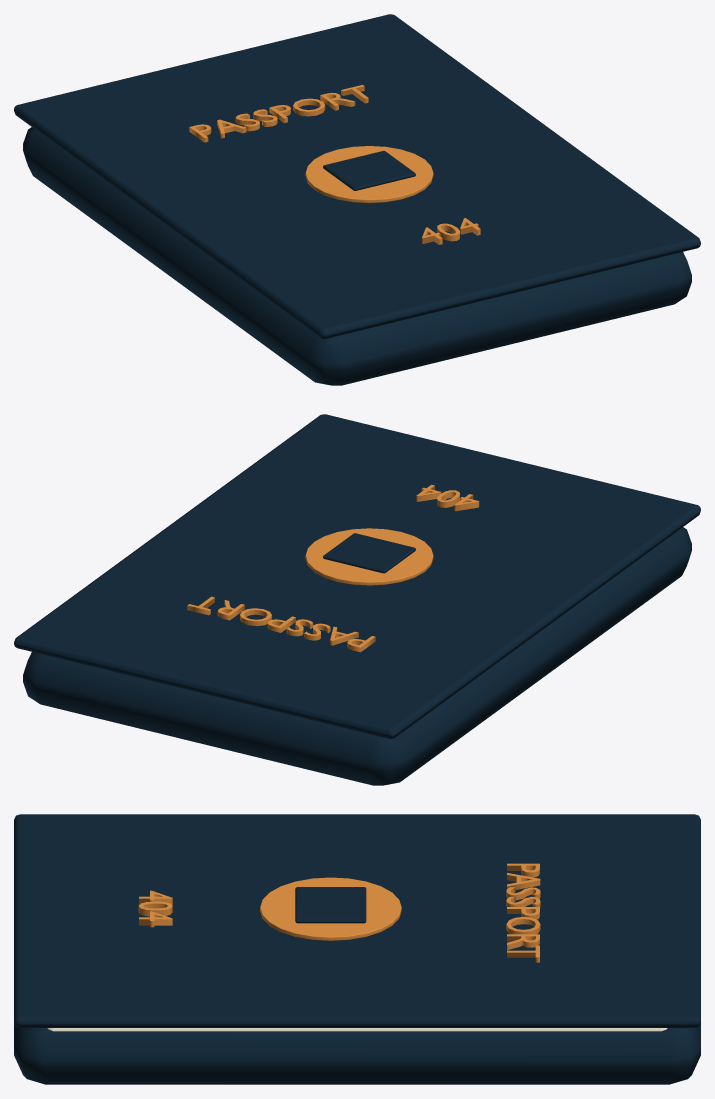
Rendered from passport.glb.
3 renders of one model, top to bottom at view 1: azimuth 30°, elevation 25°; view 2: azimuth 150°, elevation 25°; view 3: azimuth 270°, elevation 25°, orthographic. The views are drawn at different scales.
Parts seen in each view (by area): view 1: passport; view 2: passport; view 3: passport.
Boxes of the visible parts, box(x1,y1,x2,y2) form: passport: box(14, 14, 700, 385); passport: box(14, 414, 700, 785); passport: box(14, 814, 700, 1084).
Size of the model in its own units: 0.11 by 0.0225 by 0.155.
